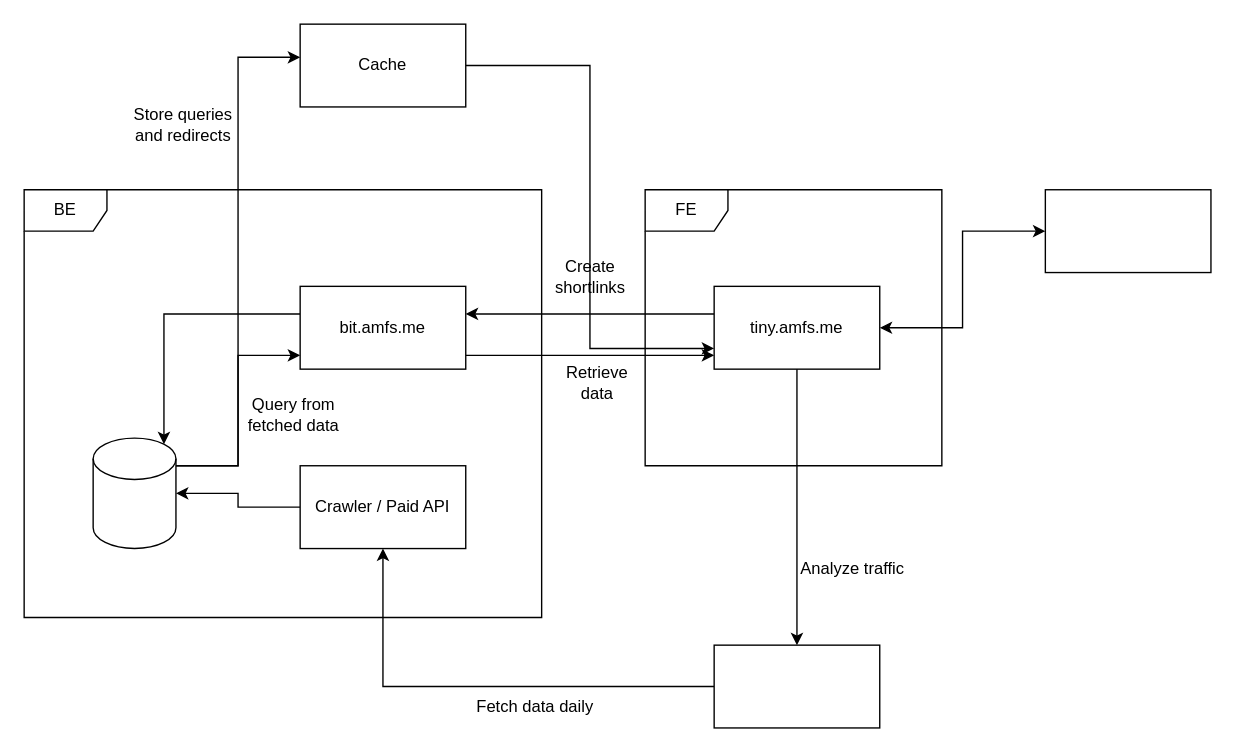
This 1235x752 diagram has some shape labels left out. The shapes that lost their labels are listed below. From the top down, each one's centre as x and y in pixels, then its label:
At pixel 1127 230: "Client".
At pixel 134 493: "DB".
At pixel 796 686: "Analytic 3rd party (GA, Mixpanel, ... )".
